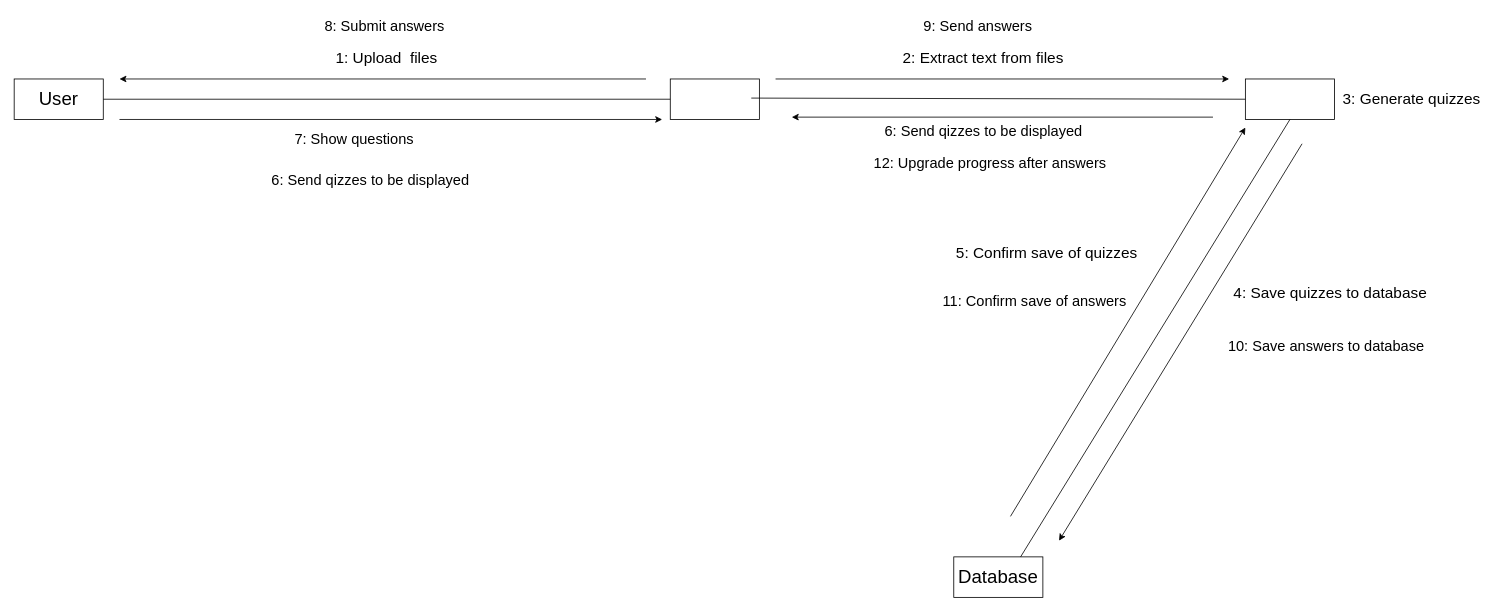
The diagram is 1503 pixels wide and 612 high, and some of its shapes have lost their labels. Here are the shapes that lost their labels. From the top down, the box of each, then its label:
(669, 78, 759, 119): Interface
(1245, 78, 1334, 119): System
